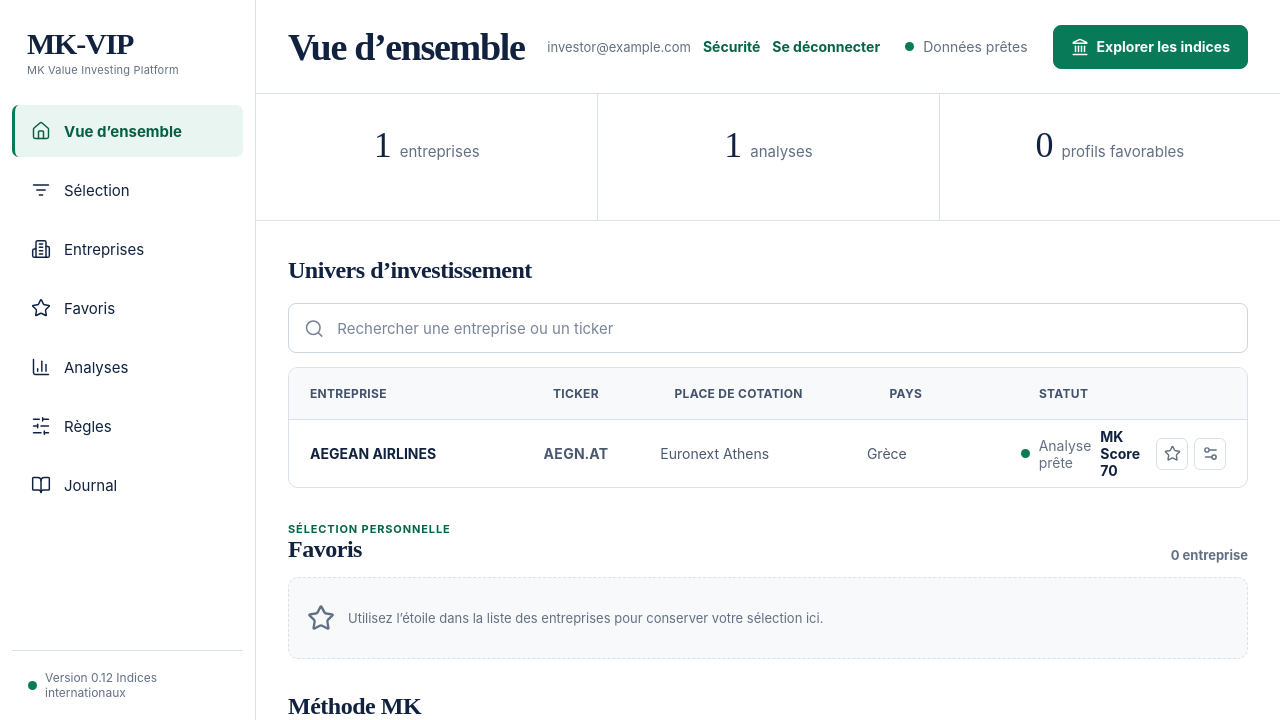
Test case: MK-VIP authentication › keeps a scored company in the persistent favorites space
Click the button named "Ajouter AEGEAN AIRLINES aux favoris" at (1172, 454), box x1=1156 y1=438 x2=1188 y2=470
(page scrolled)
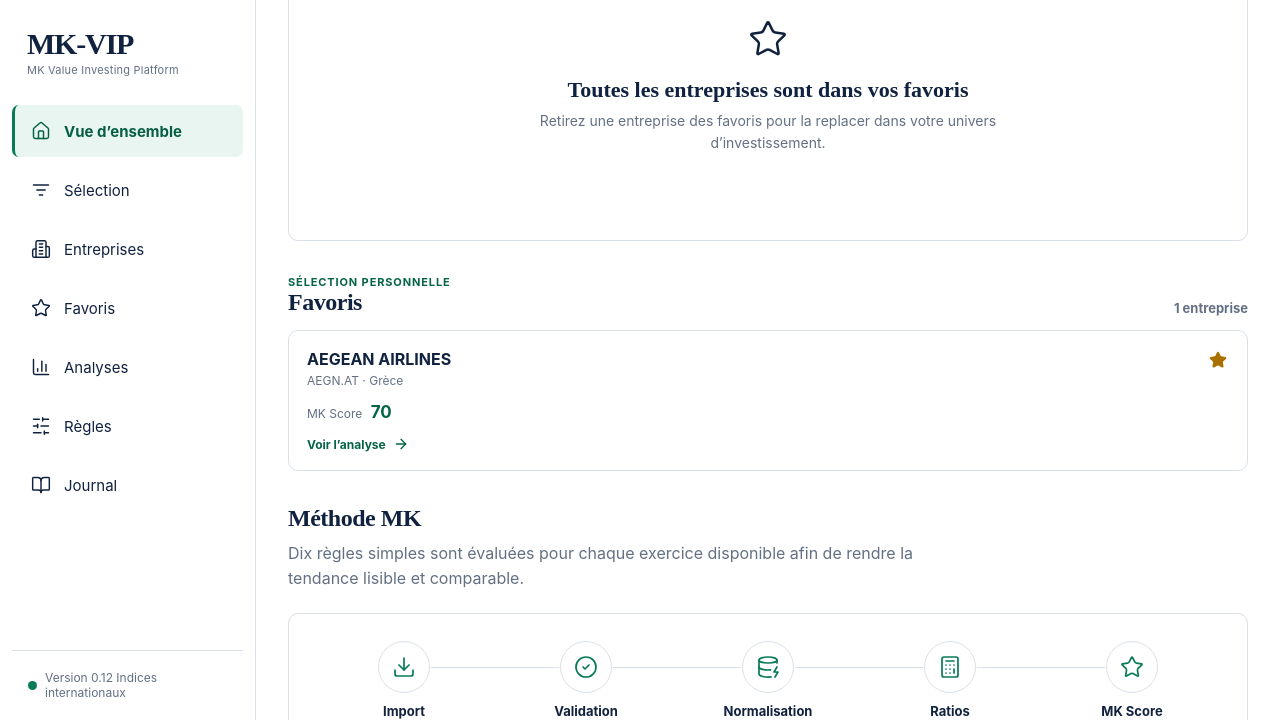
Check: the text "AEGEAN AIRLINES" is shown, box x1=307 y1=349 x2=451 y2=369
Check: the button named "Retirer AEGEAN AIRLINES des favoris" is shown, box x1=1203 y1=345 x2=1233 y2=375
